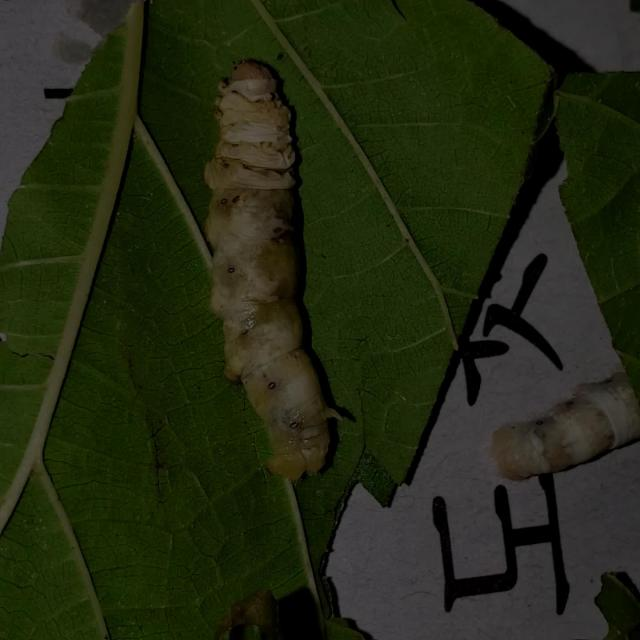Grasserie: (197, 52, 366, 487)
